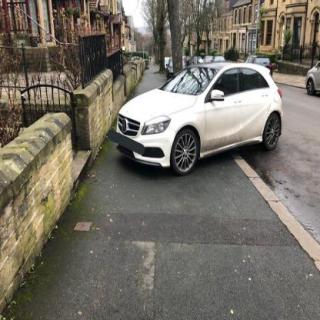Normal_vehicle: (107, 62, 282, 175)
